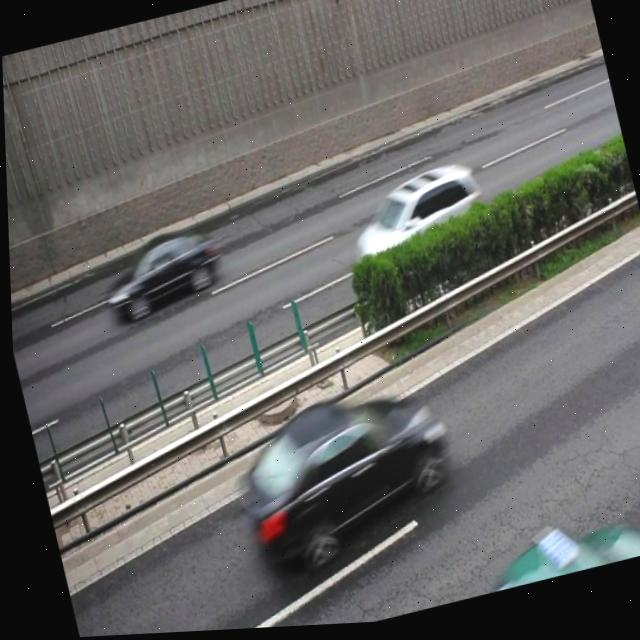car: (226, 377, 457, 575), (340, 159, 490, 281), (454, 511, 640, 603), (96, 231, 221, 325)
